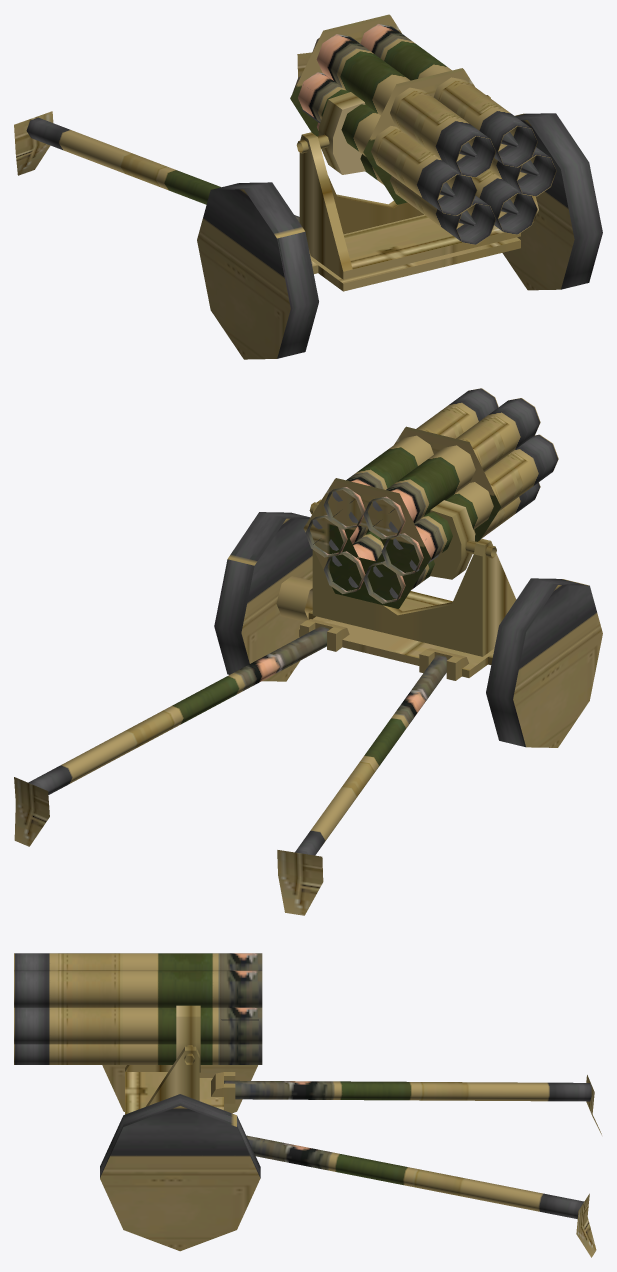
File: GERNebelwerfer.dae
3 renders of one model, top to bottom at view 1: azimuth 30°, elevation 25°; view 2: azimuth 150°, elevation 25°; view 3: azimuth 270°, elevation 25°, orthographic. The views are drawn at different scales.
Parts seen in each view (by area): view 1: tubes, wheels, carriage; view 2: tubes, carriage, wheels; view 3: tubes, wheels, carriage.
Part boxes in pixels (x1=…): tubes: x1=290, y1=14, x2=556, y2=244; wheels: x1=197, y1=113, x2=602, y2=359; carriage: x1=14, y1=52, x2=538, y2=291; tubes: x1=303, y1=388, x2=558, y2=608; carriage: x1=14, y1=499, x2=516, y2=915; wheels: x1=214, y1=512, x2=602, y2=747; tubes: x1=14, y1=953, x2=262, y2=1072; wheels: x1=100, y1=1065, x2=260, y2=1251; carriage: x1=125, y1=1046, x2=601, y2=1257.
Size of the model in its own units: 15.5 by 27.6 by 11.82.
